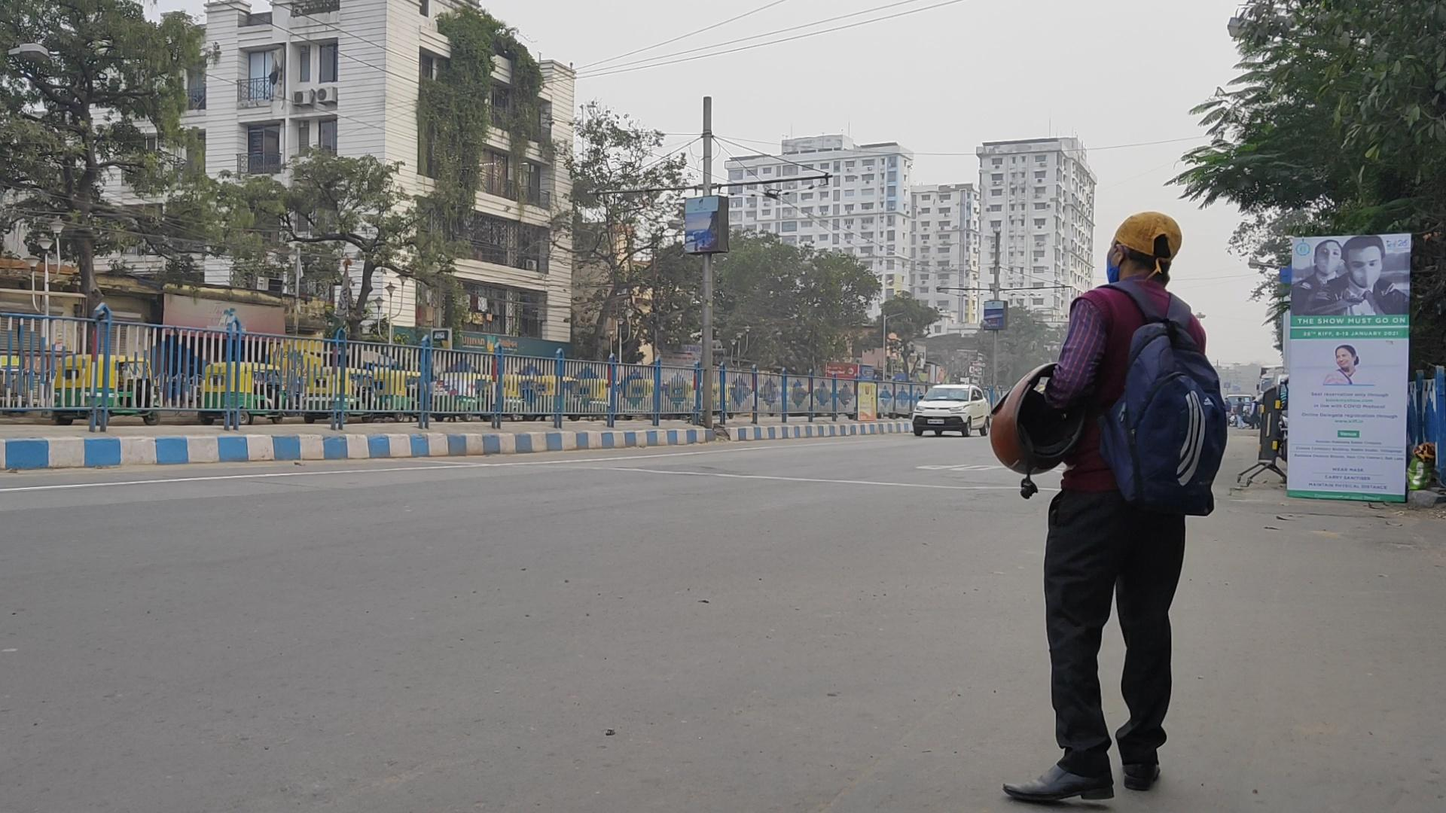car: (911, 382, 990, 439)
